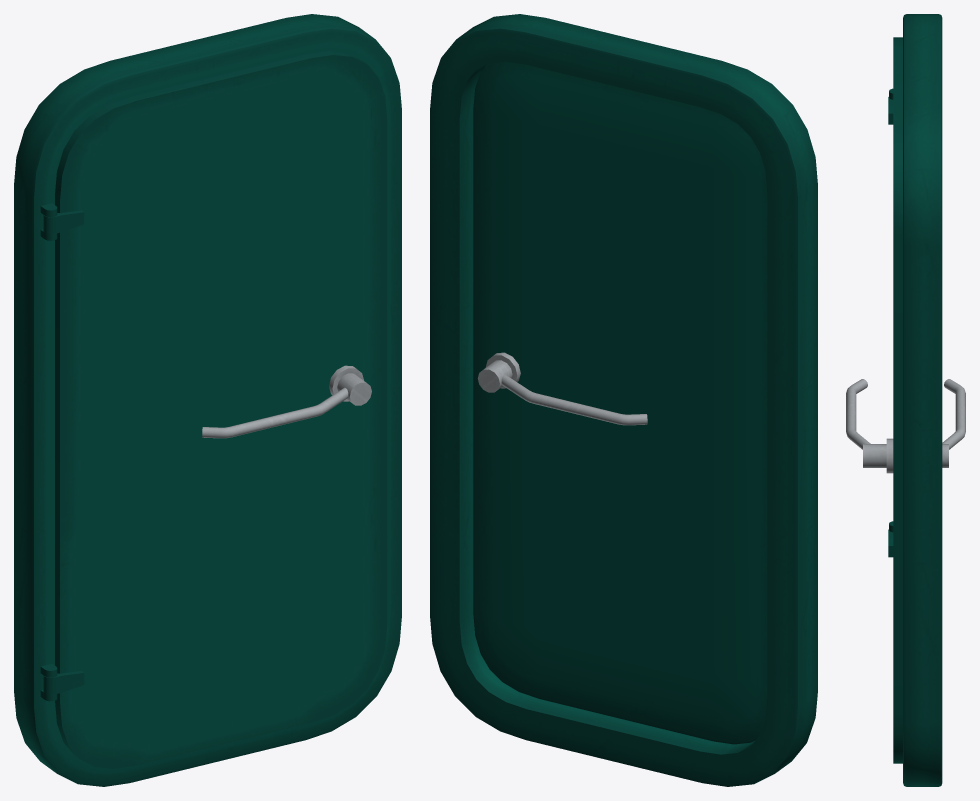
Rendered from Door_Ship_Ext.fbx.
3 renders of one model, left to right at view 1: azimuth 30°, elevation 25°; view 2: azimuth 150°, elevation 25°; view 3: azimuth 270°, elevation 25°, orthographic. The views are drawn at different scales.
Visible parts, largest first — view 1: DoorPrincipal_001, FrameDoor_001, Handle_001; view 2: DoorPrincipal_001, FrameDoor_001, Handle_001; view 3: FrameDoor_001, DoorPrincipal_001, Handle_001.
Part boxes in pixels (x1,y1,x2,y2): DoorPrincipal_001: (43, 51, 387, 768); FrameDoor_001: (14, 14, 401, 786); Handle_001: (202, 365, 371, 438); DoorPrincipal_001: (473, 61, 767, 744); FrameDoor_001: (430, 14, 817, 786); Handle_001: (477, 352, 647, 425); FrameDoor_001: (889, 14, 942, 786); DoorPrincipal_001: (888, 37, 902, 763); Handle_001: (846, 379, 965, 473).
Size of the model in its own units: 1.02 by 1.87 by 0.3044.
